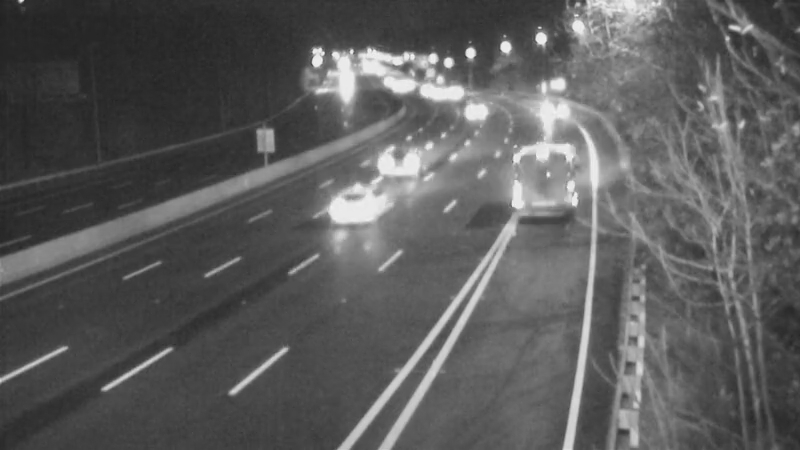vehicle: (355, 124, 435, 204), (328, 165, 408, 245), (499, 134, 579, 214), (398, 65, 448, 115), (431, 67, 481, 117), (412, 71, 462, 121), (522, 81, 572, 131), (449, 84, 499, 134)
